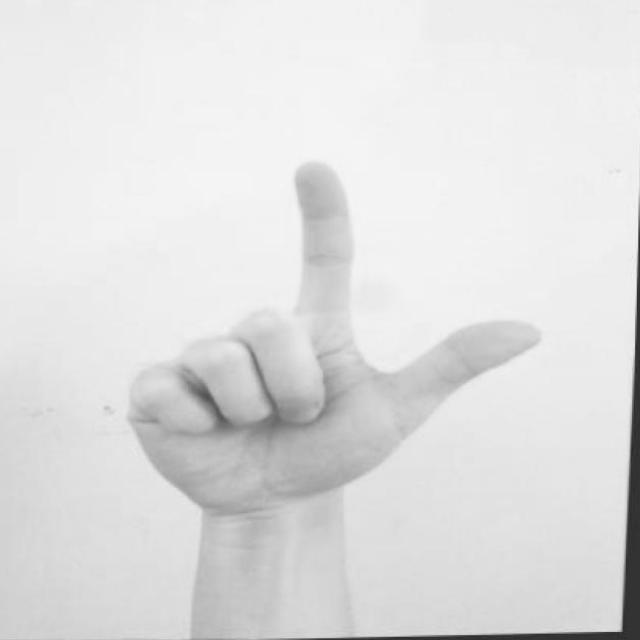L: (114, 153, 548, 540)
